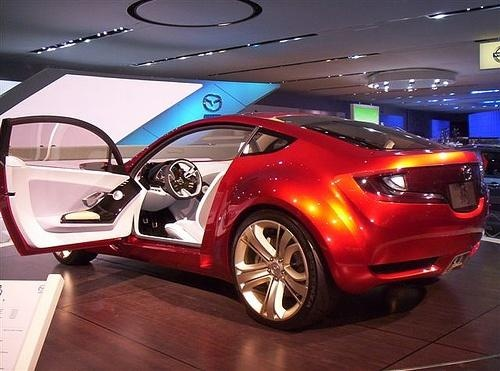car: (1, 115, 487, 330)
